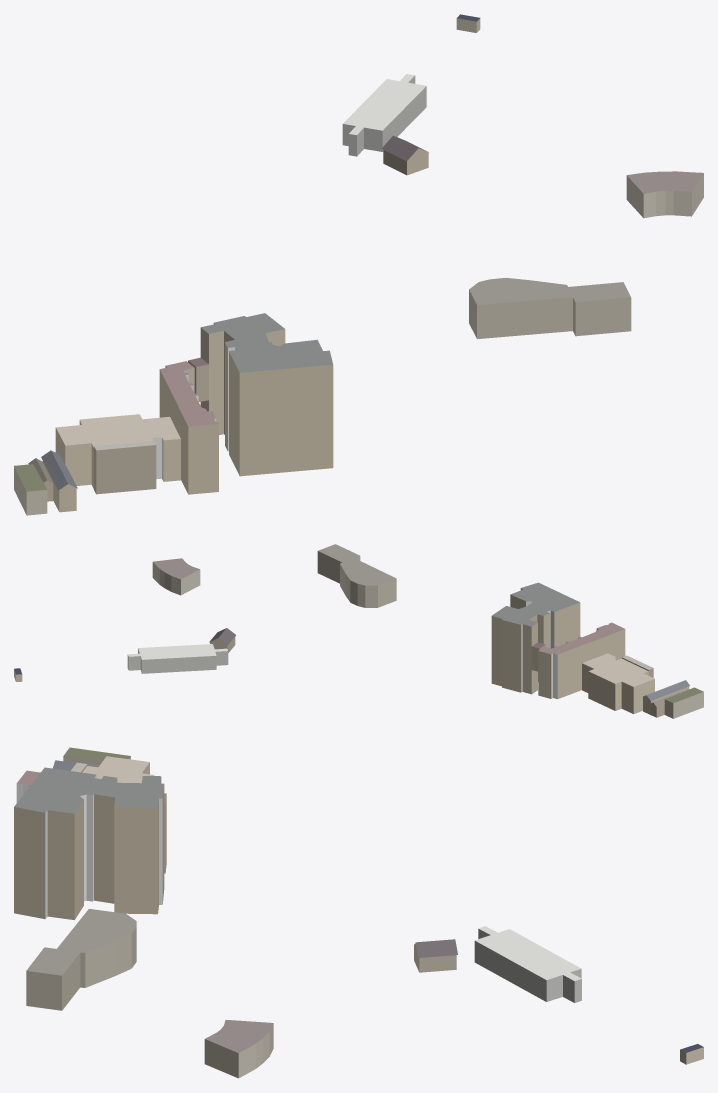
3 views of the same model, one above another, from view 1: azimuth 30°, elevation 25°; view 2: azimuth 150°, elevation 25°; view 3: azimuth 270°, elevation 25° (orthographic). The views are drawn at different scales.
Visible parts, largest first — view 1: tuile; view 2: tuile; view 3: tuile.
Boxes of the visible parts, <box> form: tuile: <box>14,14,703,515</box>; tuile: <box>14,544,703,718</box>; tuile: <box>14,747,703,1078</box>.
Size of the model in its own units: 249 by 34.1 by 191.
